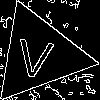V: (14, 29, 56, 80)
